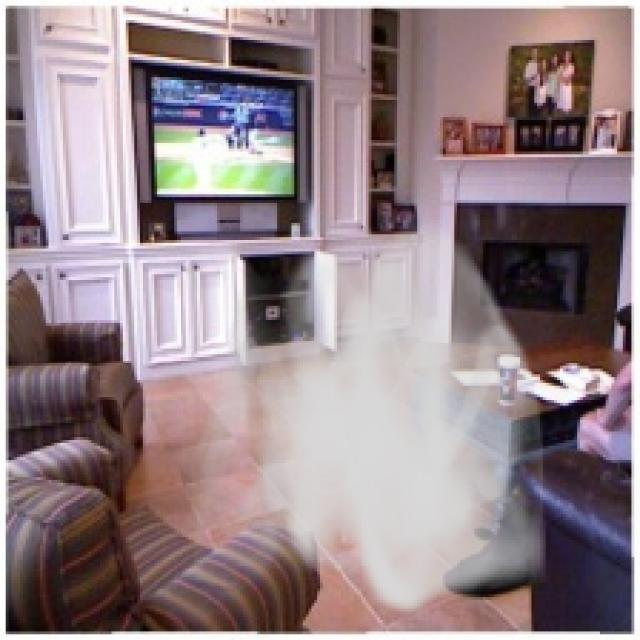smoke: (186, 212, 557, 617)
